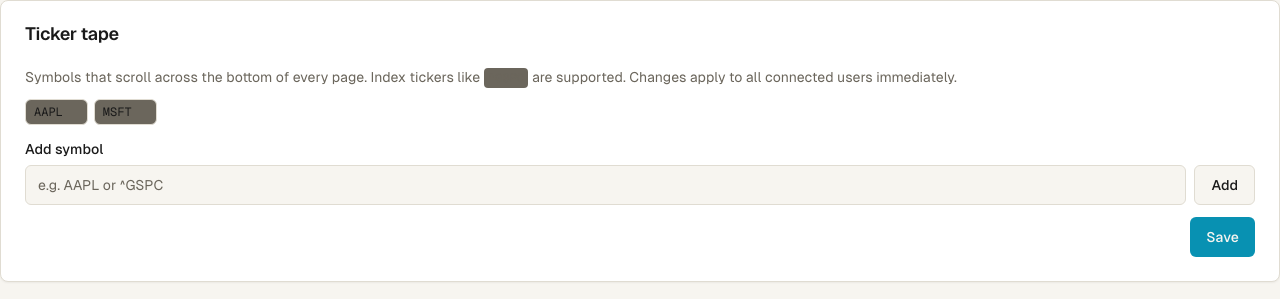
Test: TickerTapeEditor › adds a typed symbol to the working list
Step 1. Type "NVDA" into the field labelled "Add symbol" → (606, 185), box [25,165,1186,205]
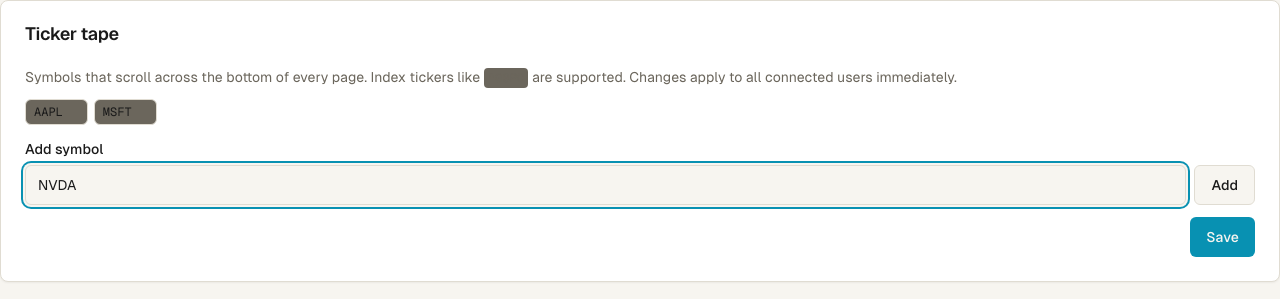
Step 2. Click the button "Add" → (1225, 185), box [1194,165,1255,205]
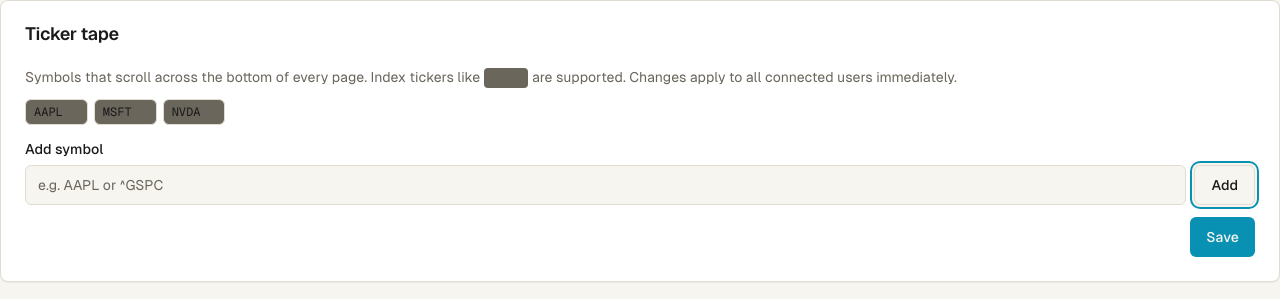
Now the text "NVDA" is shown, box [172,104,200,120]
